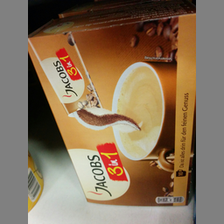coffee: (28, 4, 195, 207)
